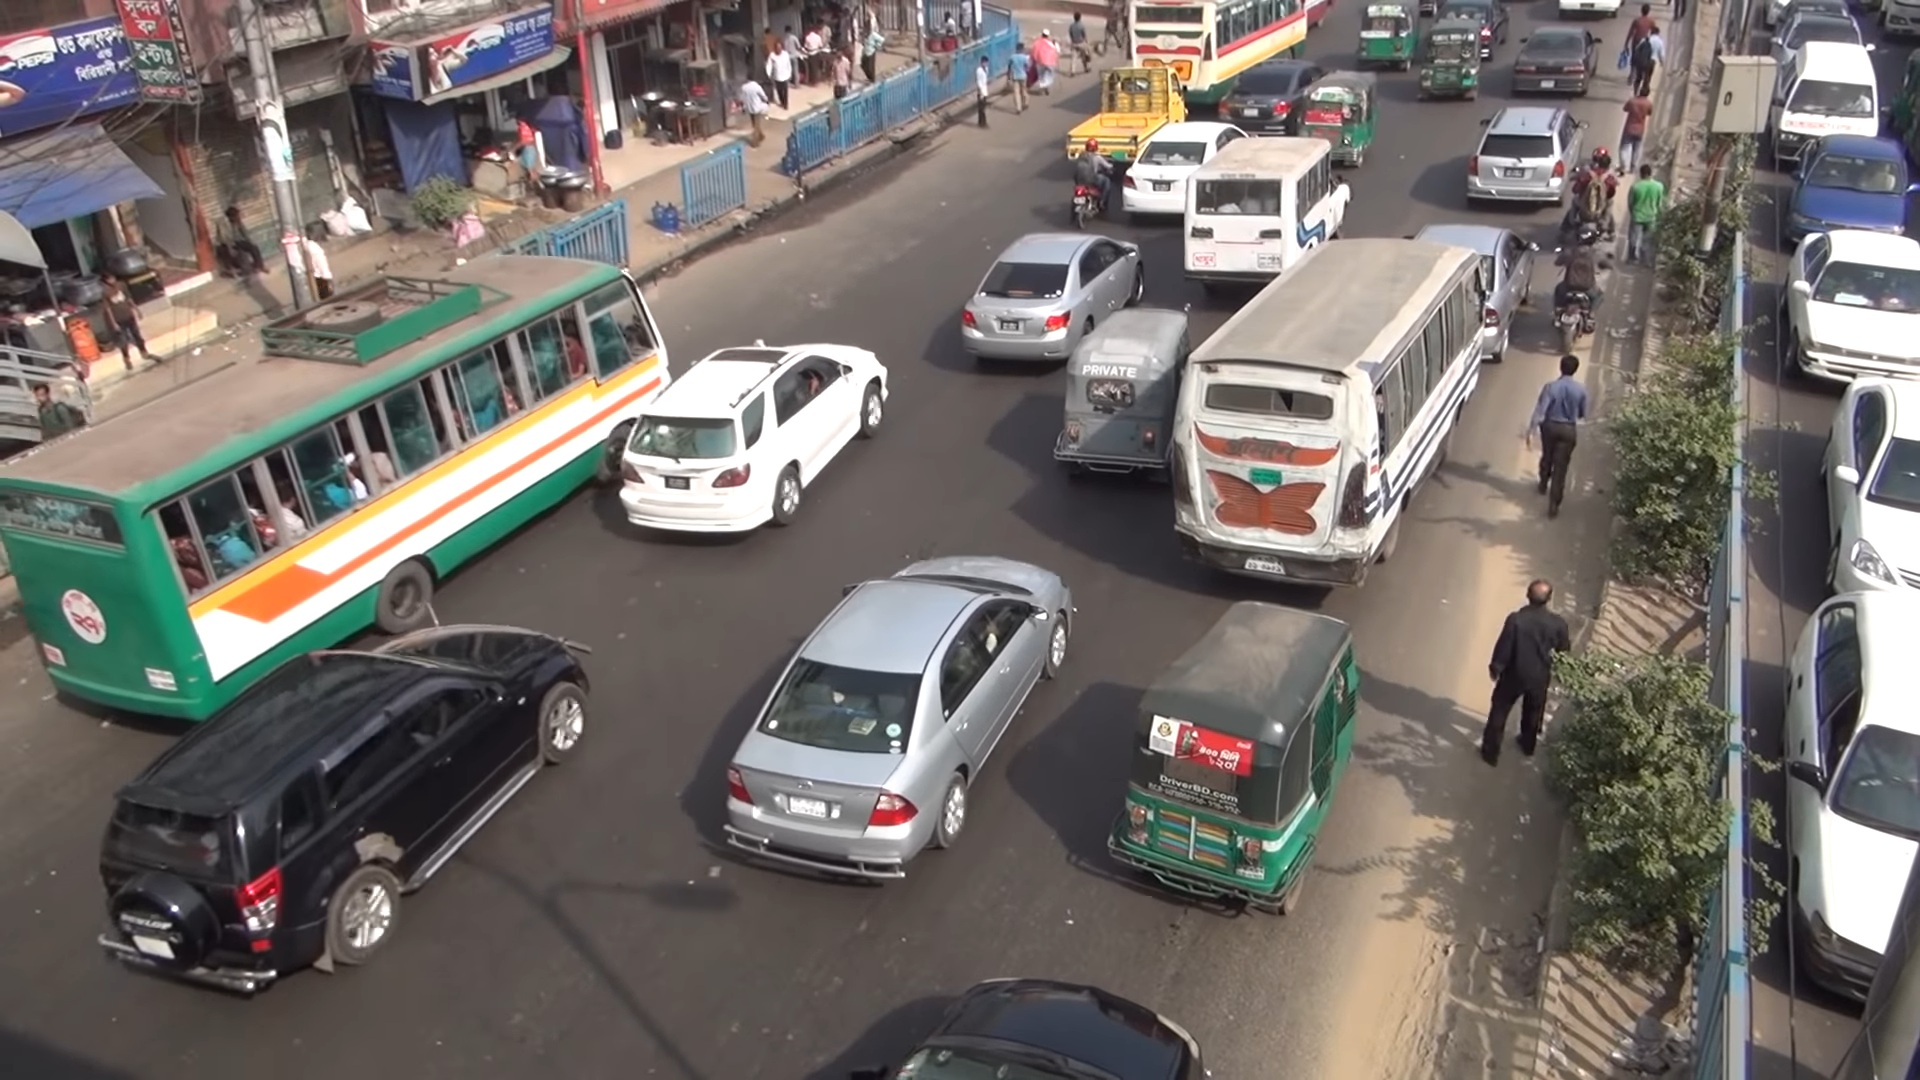bike: (1067, 167, 1112, 225)
bus: (1, 255, 676, 723), (1172, 233, 1487, 578), (1182, 137, 1352, 289), (1127, 3, 1313, 95)
car: (95, 622, 599, 997), (720, 555, 1076, 882), (1785, 595, 1920, 1000), (622, 343, 891, 534), (849, 972, 1216, 1080), (955, 233, 1147, 363), (1813, 371, 1920, 593), (1782, 229, 1920, 381), (1782, 135, 1920, 251), (1764, 44, 1882, 167), (1461, 105, 1596, 208), (1120, 116, 1249, 222), (1217, 59, 1320, 135), (1511, 24, 1605, 95), (1772, 9, 1865, 59)
cng: (1101, 603, 1361, 918), (1054, 301, 1203, 483), (1353, 1, 1422, 76), (1420, 20, 1482, 95)
truck: (1062, 69, 1189, 171)
